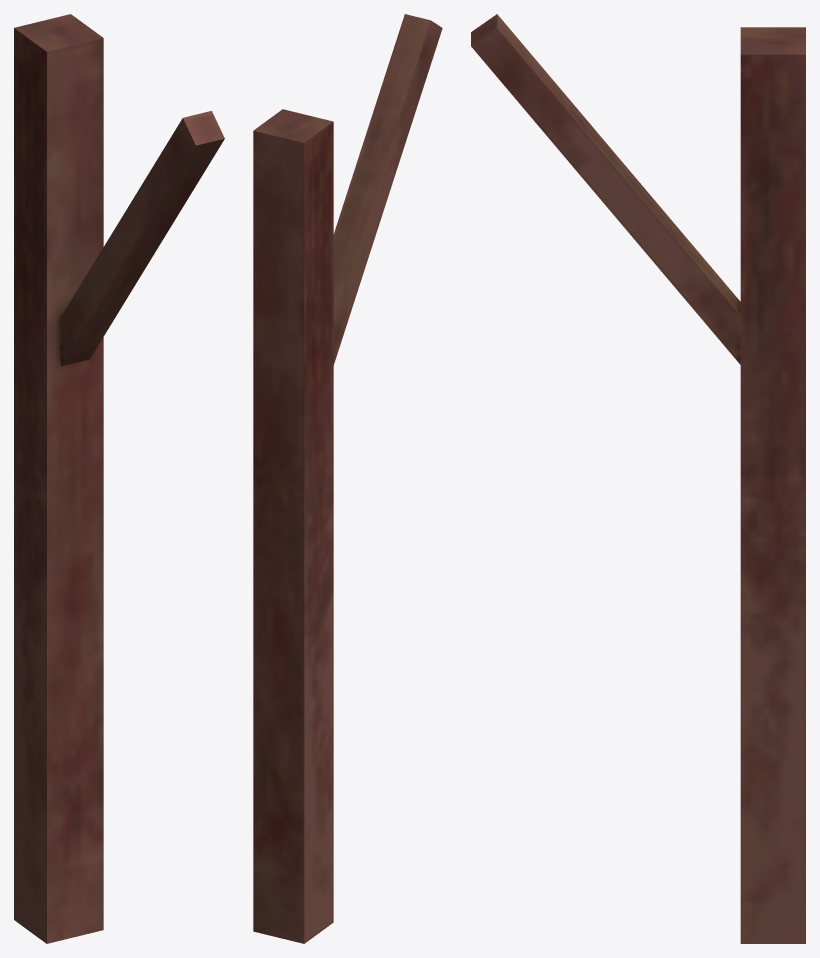
File: Wooden column support.fbx
3 views of the same model, side by side, from view 1: azimuth 30°, elevation 25°; view 2: azimuth 150°, elevation 25°; view 3: azimuth 270°, elevation 25° (orthographic). The views are drawn at different scales.
Parts seen in each view (by area): view 1: Coluna de madeira com suporte; view 2: Coluna de madeira com suporte; view 3: Coluna de madeira com suporte.
Part boxes in pixels (x1,y1,x2,y2): Coluna de madeira com suporte: (14,14,224,943); Coluna de madeira com suporte: (253,14,442,943); Coluna de madeira com suporte: (471,14,805,943).
Size of the model in its own units: 20 by 307 by 102.
